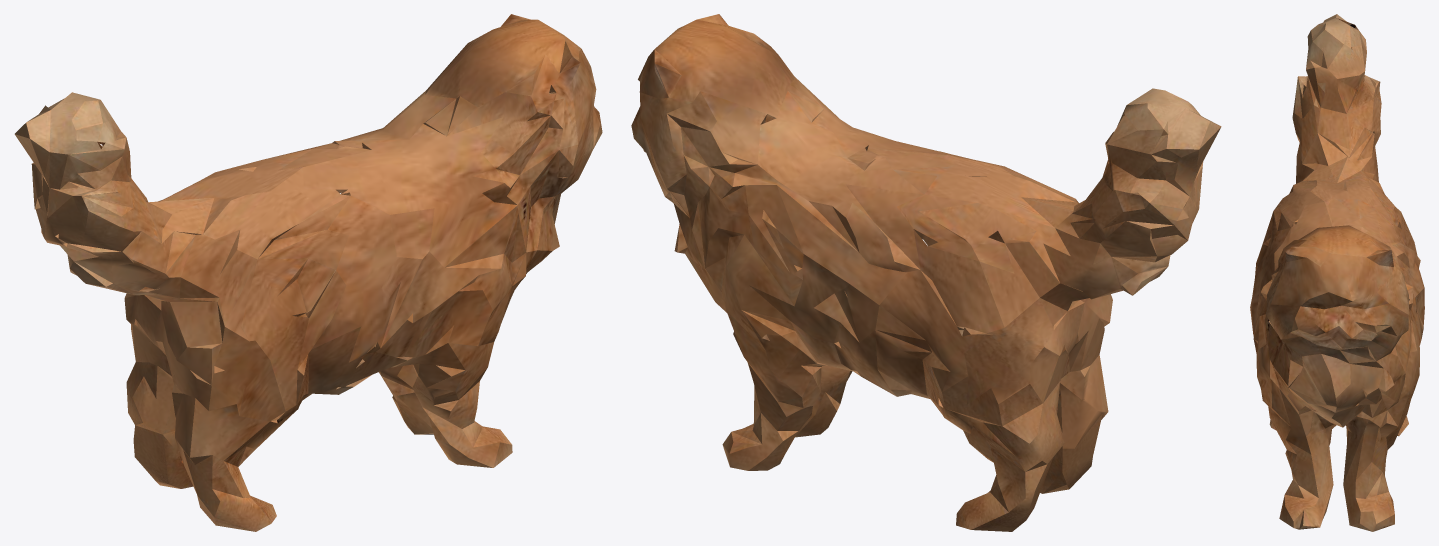
The model's file is CROOKSHNK-lo.glb.
The picture shows the model from 3 angles, left to right: view 1: azimuth 30°, elevation 25°; view 2: azimuth 150°, elevation 25°; view 3: azimuth 270°, elevation 25°; orthographic projection. The views are drawn at different scales.
Parts seen in each view (by area): view 1: output_unwrapped; view 2: output_unwrapped; view 3: output_unwrapped.
Part boxes in pixels (<box>): output_unwrapped: <box>14,14,602,531</box>; output_unwrapped: <box>631,14,1221,531</box>; output_unwrapped: <box>1250,14,1424,531</box>.
Bounding box in the file's own units: 1.35 × 1 × 0.4523.
Materials: 1 (1 with a texture image).
